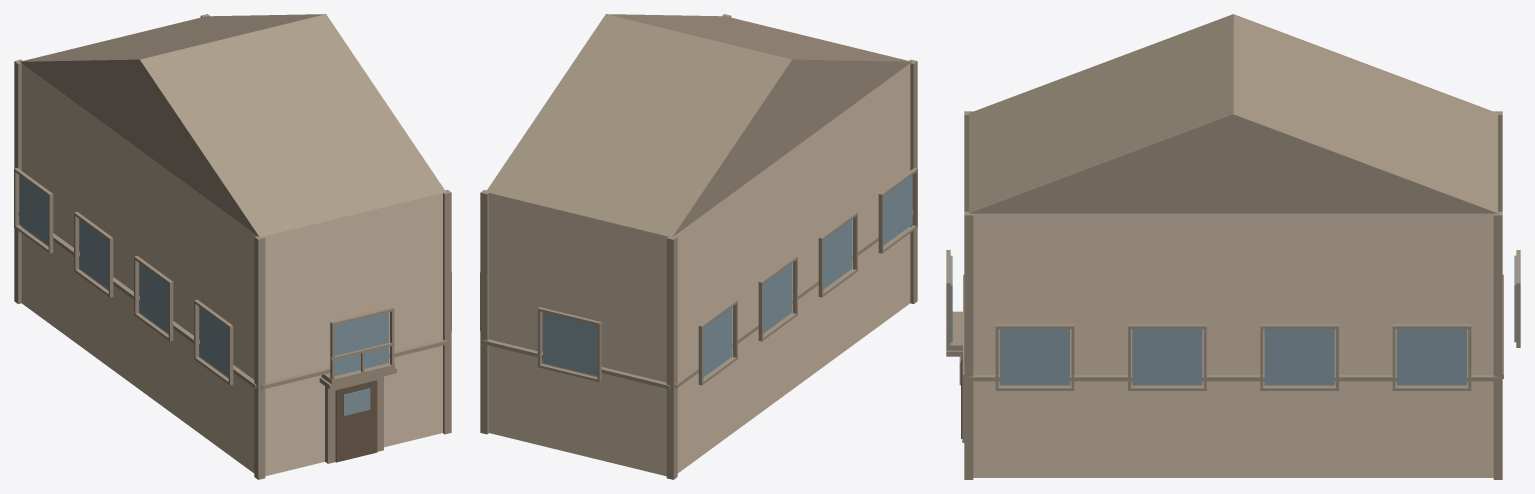
Rendered from lot_1x2_gable.glb.
The picture shows the model from 3 angles, left to right: view 1: azimuth 30°, elevation 25°; view 2: azimuth 150°, elevation 25°; view 3: azimuth 270°, elevation 25°; orthographic projection. The views are drawn at different scales.
Visible parts, largest first — view 1: lot_1x2_gable; view 2: lot_1x2_gable; view 3: lot_1x2_gable.
Boxes of the visible parts, x1,y1,x2,y2 form: lot_1x2_gable: (14, 14, 451, 479); lot_1x2_gable: (480, 14, 917, 479); lot_1x2_gable: (946, 14, 1520, 479).
Size of the model in its own units: 7.74 by 11 by 15.74.
